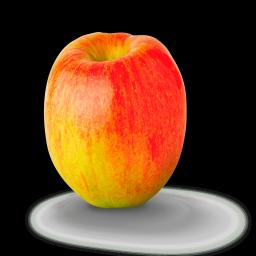apple: (36, 18, 206, 230)
